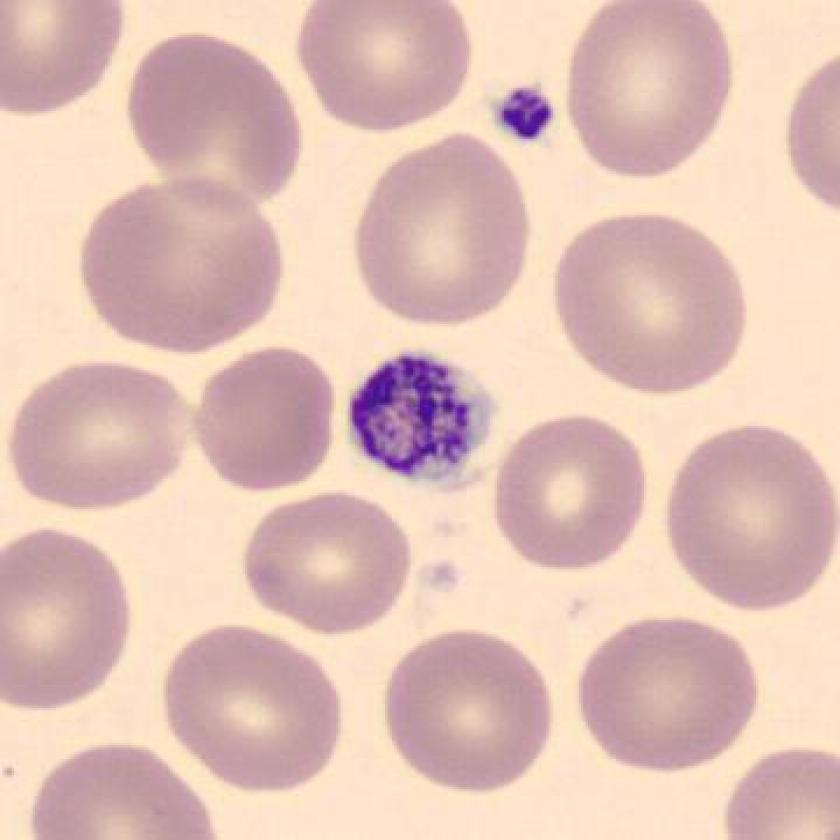platelets: (335, 334, 512, 496), (479, 73, 573, 149)
